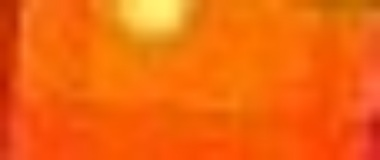Hotspot: (117, 1, 199, 41)
